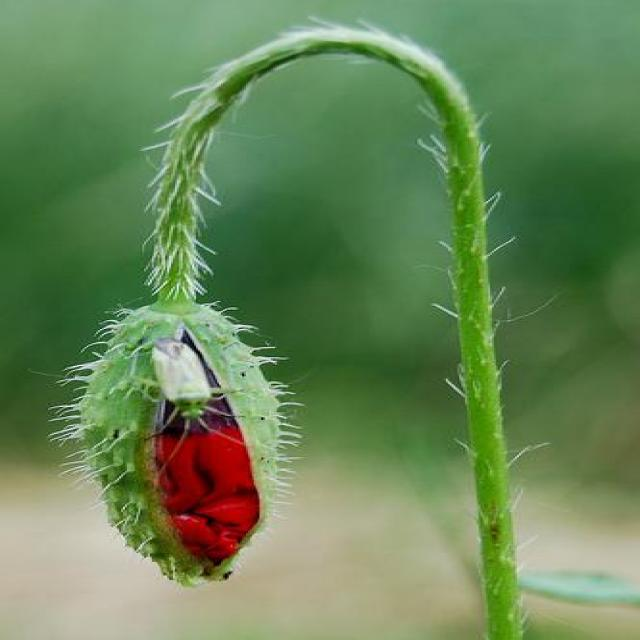Miridae-Adult-: (126, 333, 260, 454)
